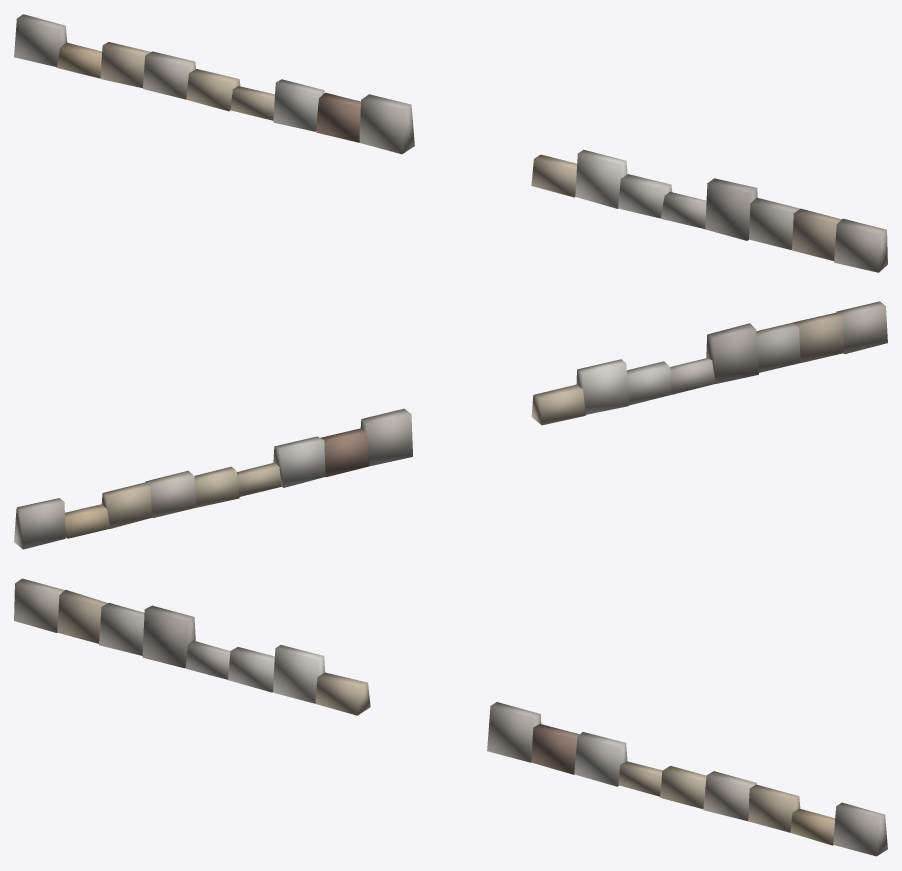
Rendered from farm_-2_-2_far.glb.
3 views of the same model, one above another, from view 1: azimuth 90°, elevation 25°; view 2: azimuth 150°, elevation 25°; view 3: azimuth 270°, elevation 25° (orthographic). The views are drawn at different scales.
Parts seen in each view (by area): view 1: geometry_0; view 2: geometry_0; view 3: geometry_0.
Boxes of the visible parts, box(x1,y1,x2,y2) form: geometry_0: box(14, 14, 887, 272); geometry_0: box(14, 301, 887, 549); geometry_0: box(14, 578, 887, 856).
Bounding box in the file's own units: 16.54 × 1.82 × 26.26.
